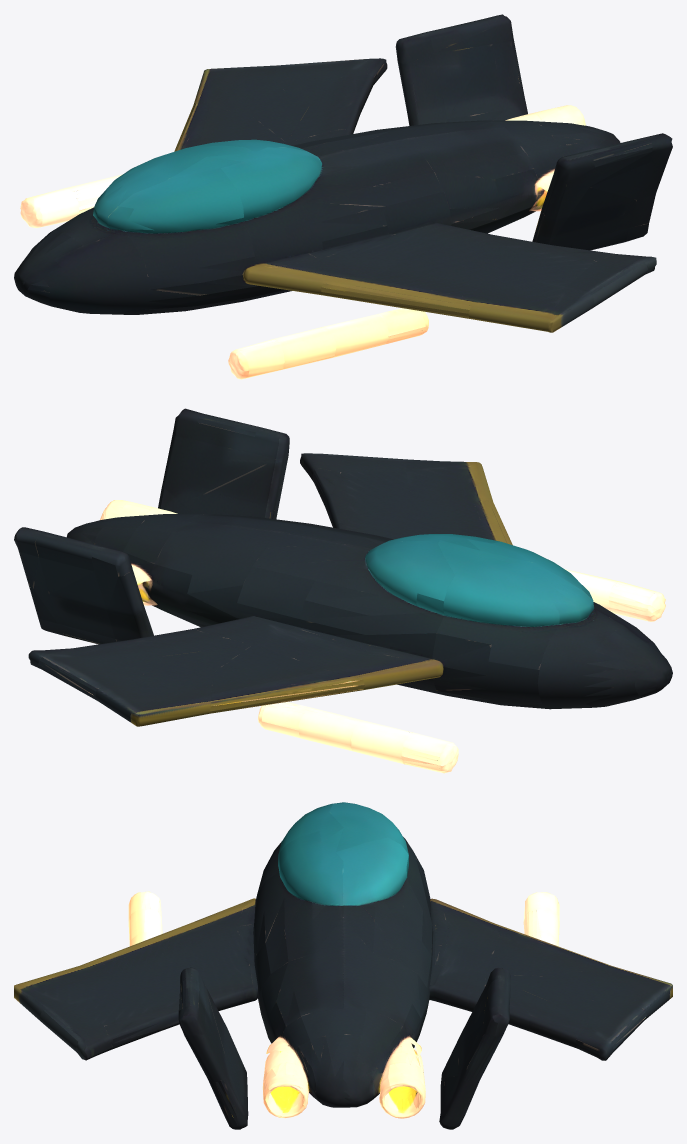
Rendered from loiter-drone.glb.
3 renders of one model, top to bottom at view 1: azimuth 30°, elevation 25°; view 2: azimuth 150°, elevation 25°; view 3: azimuth 270°, elevation 25°, orthographic. The views are drawn at different scales.
Bounding box in the file's own units: 1 × 0.2212 × 1.
1 material, 1 textured.
